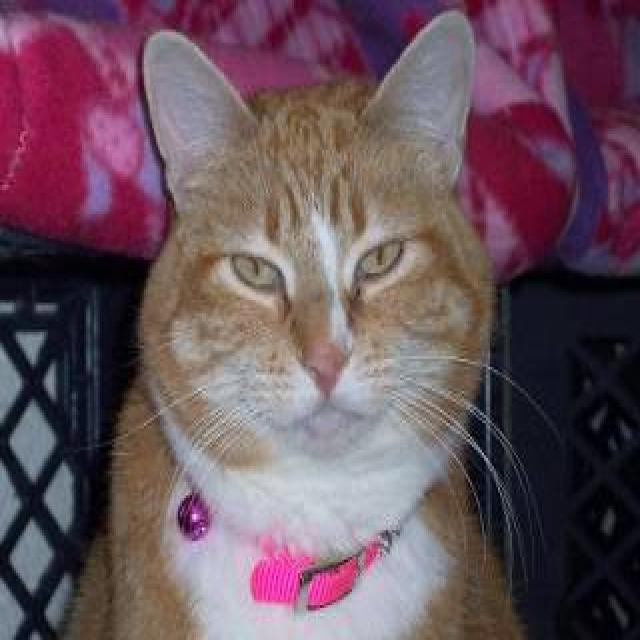cat-eye-normal: (225, 231, 410, 306)
